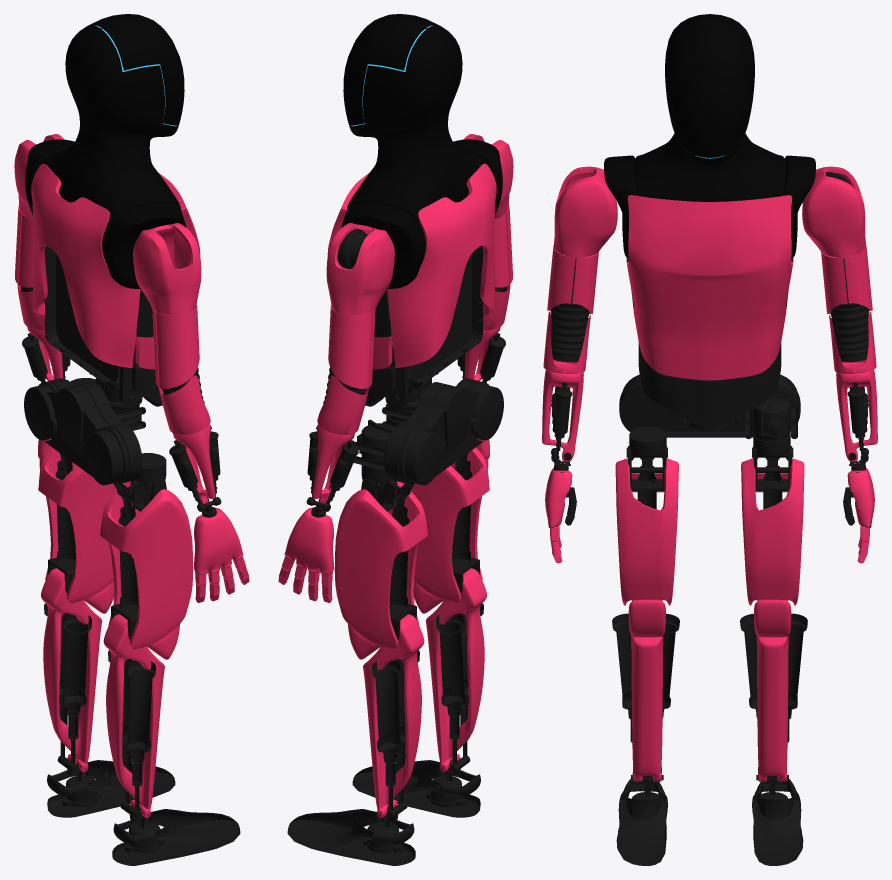
The model's file is creative-director.glb.
3 views of the same model, side by side, from view 1: azimuth 30°, elevation 25°; view 2: azimuth 150°, elevation 25°; view 3: azimuth 270°, elevation 25° (orthographic).
Parts seen in each view (by area): view 1: Cube.001; view 2: Cube.001; view 3: Cube.001.
Boxes of the visible parts, x1=… form: Cube.001: x1=14, y1=14, x2=249, y2=865; Cube.001: x1=278, y1=14, x2=513, y2=865; Cube.001: x1=542, y1=14, x2=877, y2=865.
Bounding box in the file's own units: 0.3406 × 1.7 × 0.6396.
